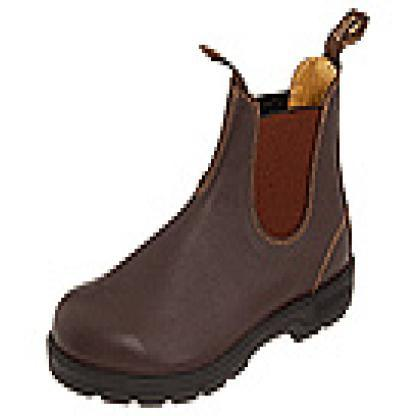bota: (47, 70, 362, 410)
